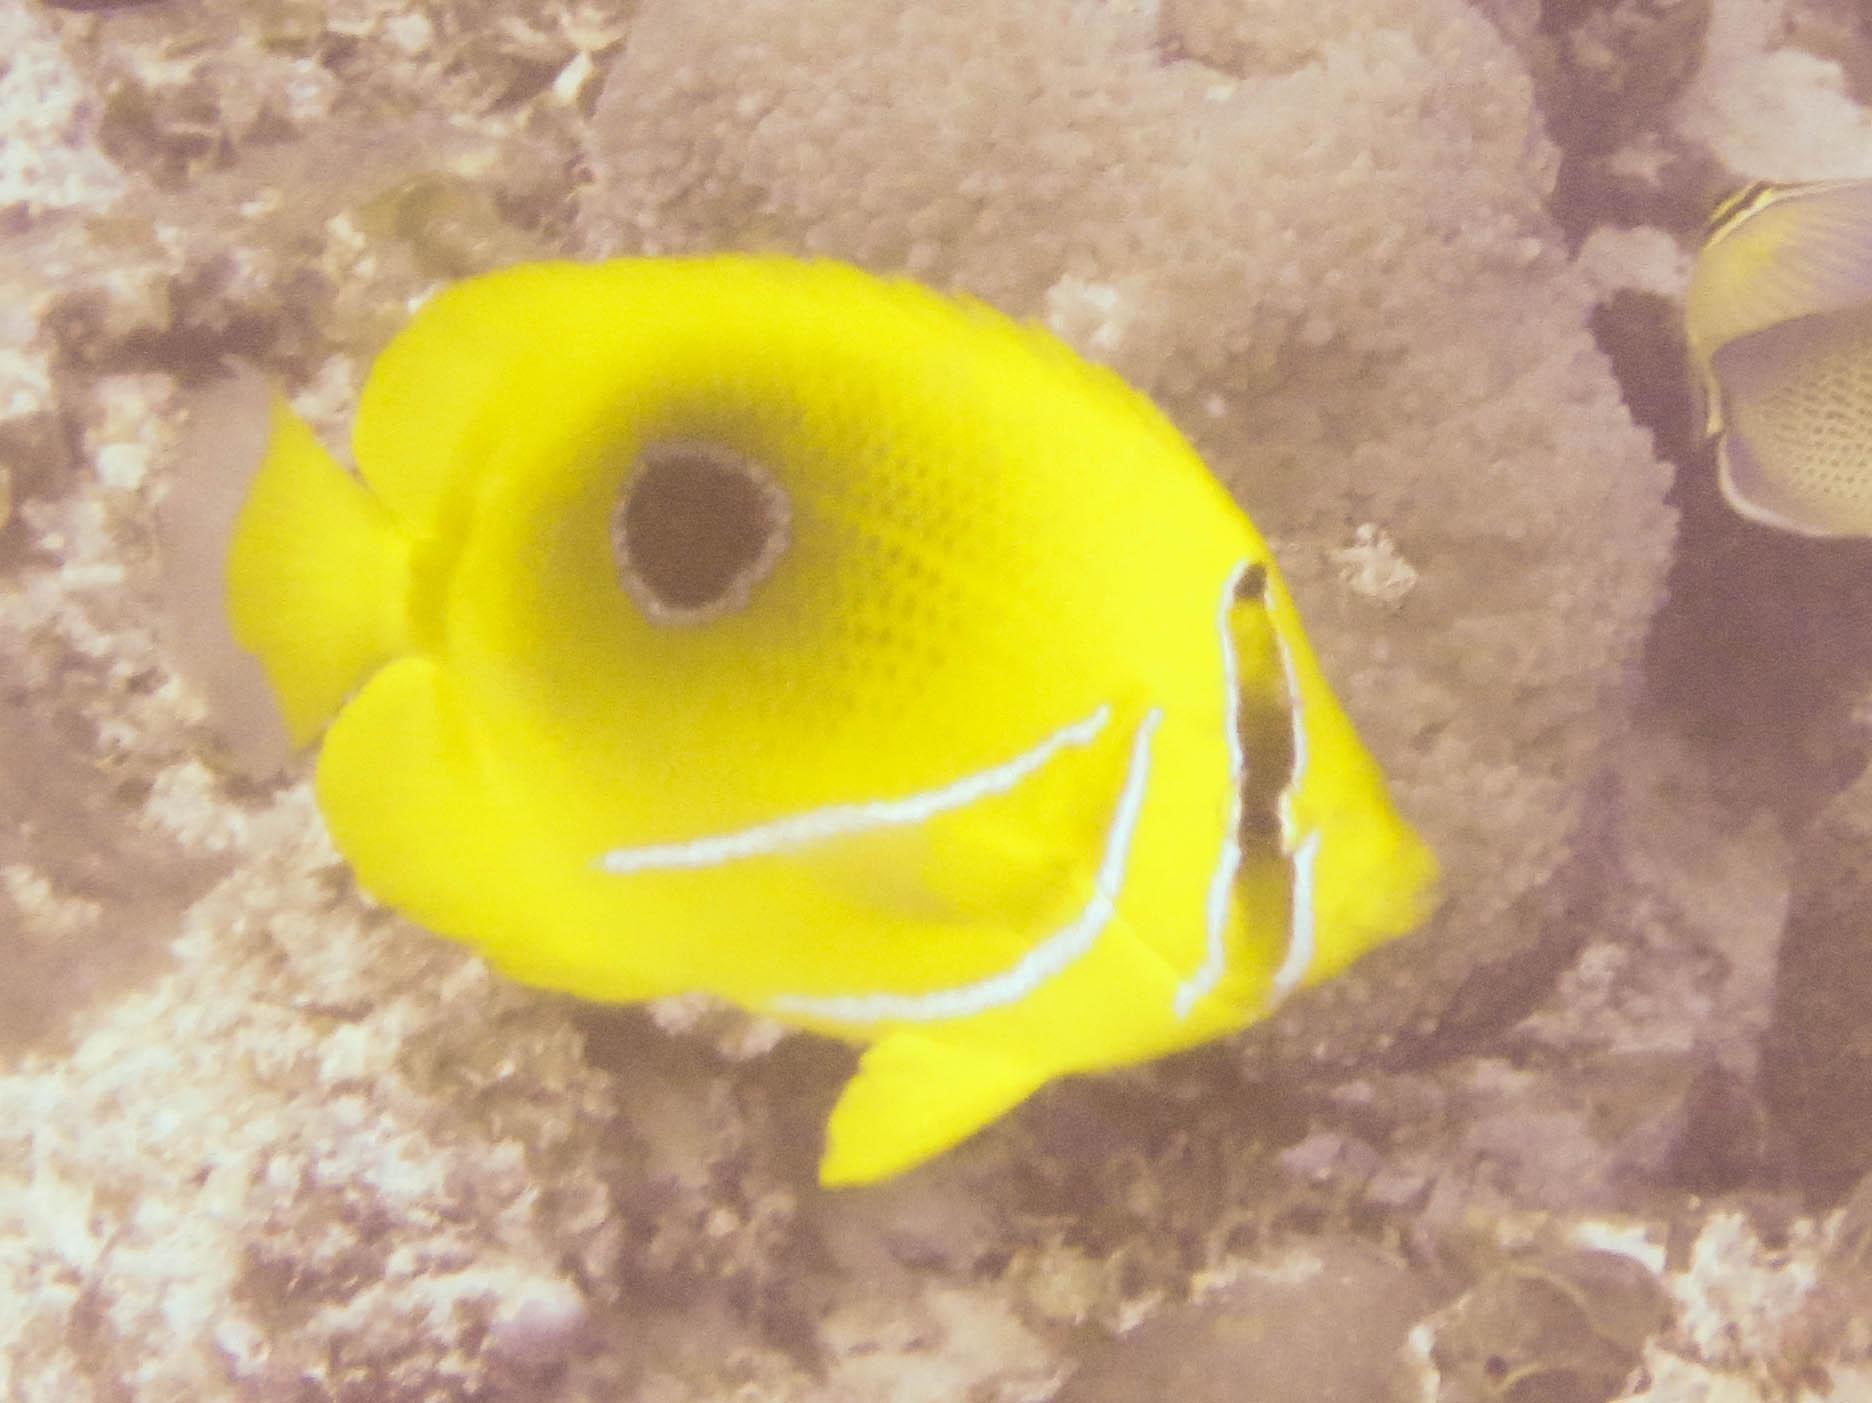Fish: (122, 180, 1503, 1242)
